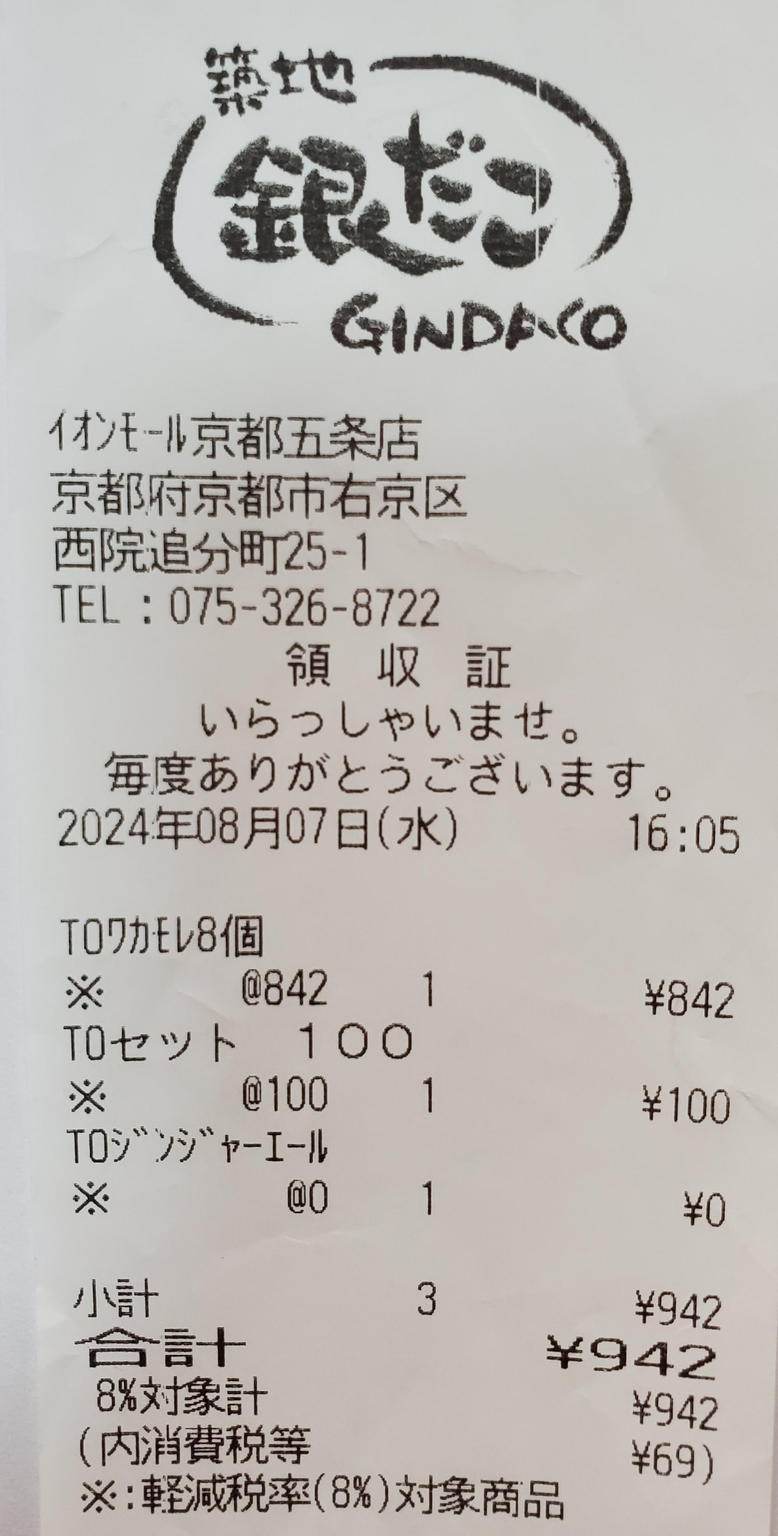TEL: (163, 585, 472, 633)
date: (55, 803, 373, 857)
total: (585, 1327, 720, 1380)
